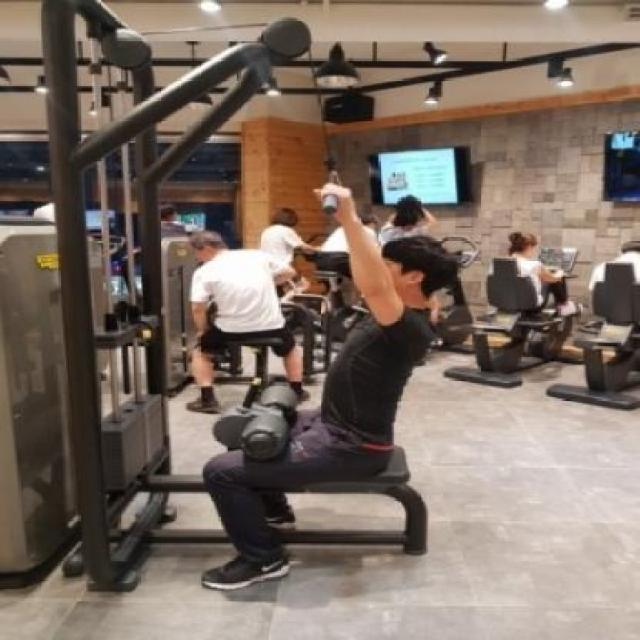Lat Pull Down: (2, 0, 463, 605)
